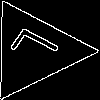L: (9, 25, 70, 73)
